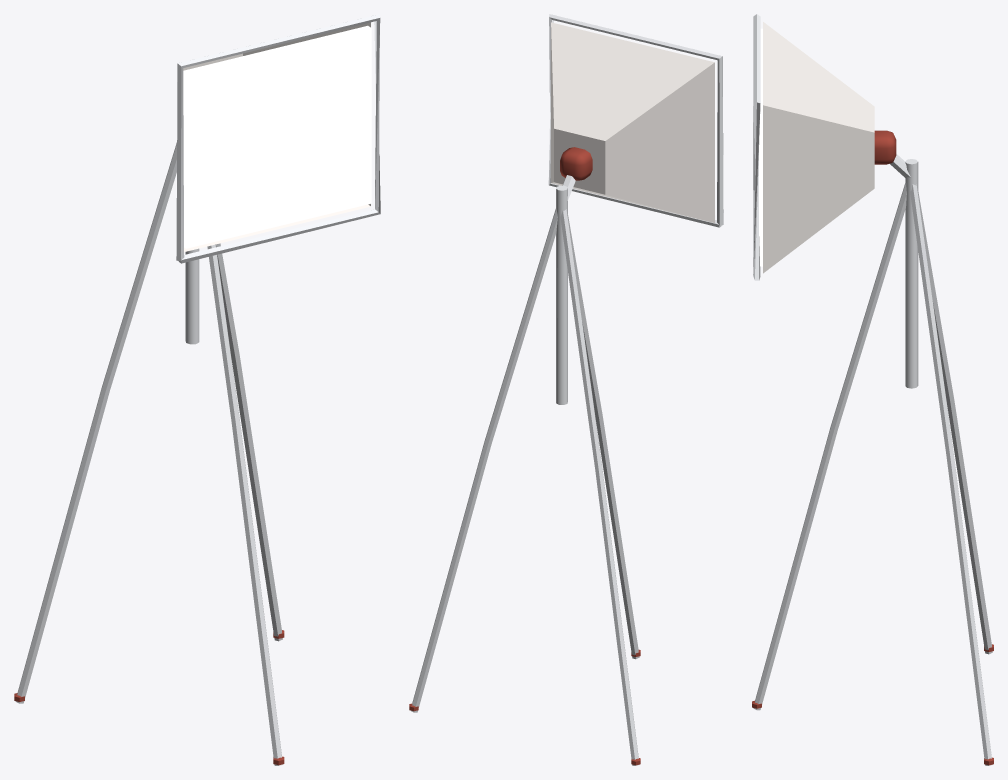
The model's file is softbox_light_stand.glb.
3 renders of one model, left to right at view 1: azimuth 30°, elevation 25°; view 2: azimuth 150°, elevation 25°; view 3: azimuth 270°, elevation 25°, orthographic. The views are drawn at different scales.
Visible parts, largest first — view 1: softbox_light_stand; view 2: softbox_light_stand; view 3: softbox_light_stand.
Boxes of the visible parts, bbox=[...] form: softbox_light_stand: bbox=[14, 14, 380, 765]; softbox_light_stand: bbox=[409, 14, 723, 765]; softbox_light_stand: bbox=[752, 14, 993, 765].
Bounding box in the file's own units: 0.9024 × 2.32 × 0.7815.
